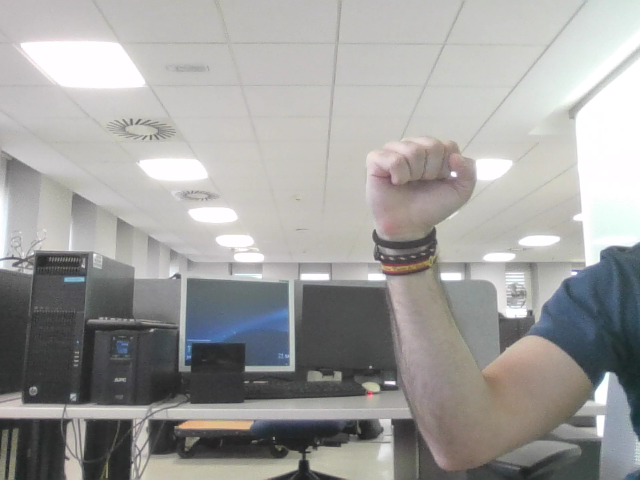Puño: (380, 145, 467, 211)
